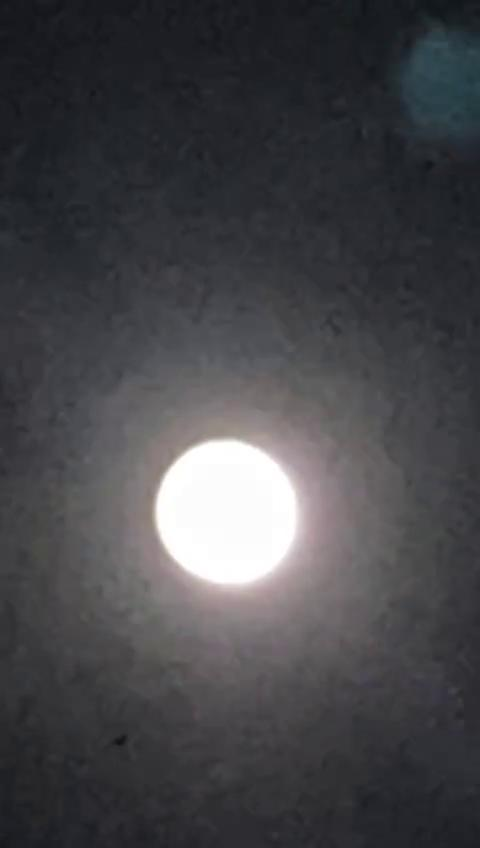moon: (128, 416, 306, 607)
